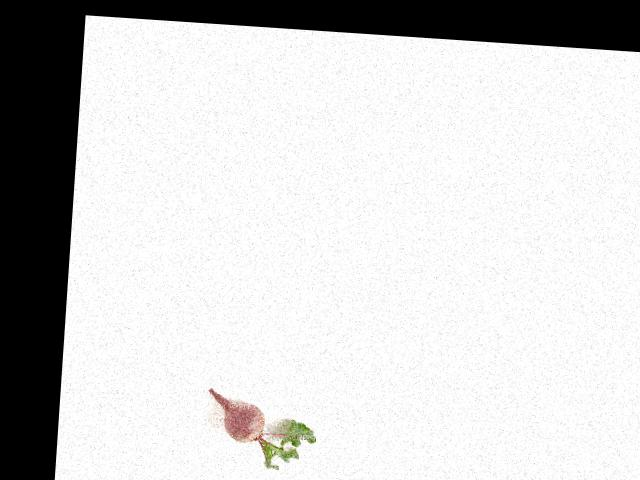beet: (204, 388, 319, 472)
